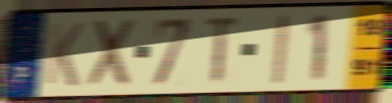1: (305, 12, 331, 85)
7: (151, 16, 196, 89)
I: (270, 12, 291, 86)
K: (43, 20, 86, 89)
T: (204, 13, 243, 88)
X: (87, 16, 140, 91)
